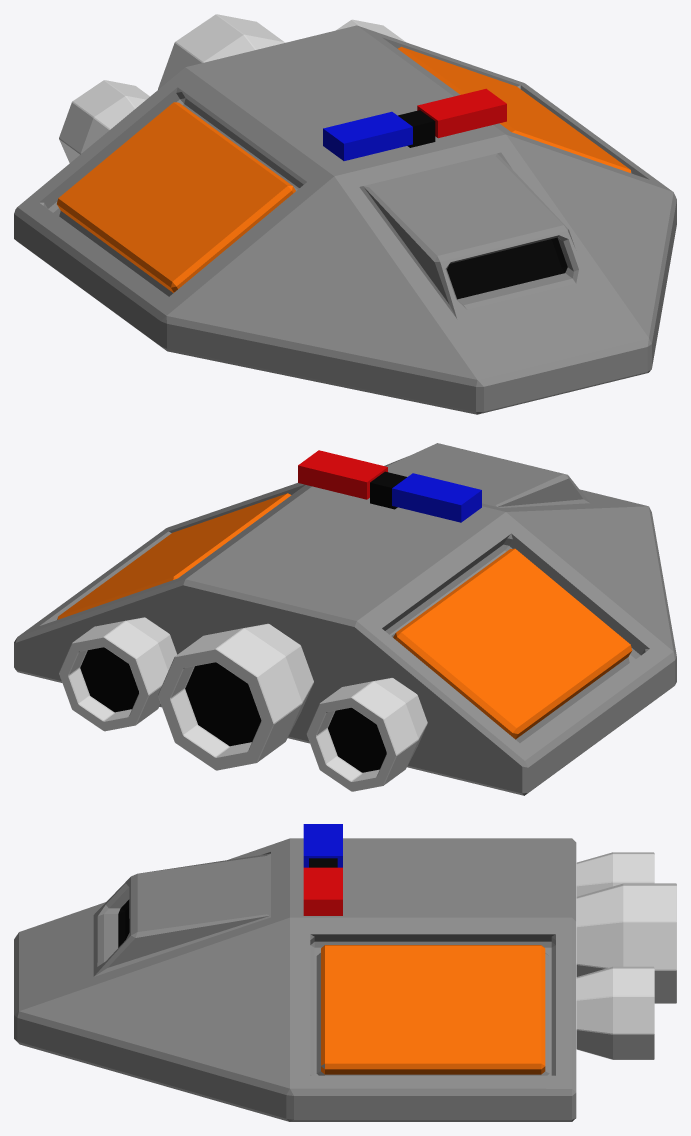
Rendered from police (2).fbx.
3 views of the same model, one above another, from view 1: azimuth 30°, elevation 25°; view 2: azimuth 150°, elevation 25°; view 3: azimuth 270°, elevation 25° (orthographic). The views are drawn at different scales.
Parts seen in each view (by area): view 1: Plane, Circle, Cube; view 2: Plane, Circle, Cube; view 3: Plane, Circle, Cube.
Boxes of the visible parts, box(x1,y1,x2,y2) form: Plane: box(14, 25, 676, 414); Circle: box(59, 14, 405, 162); Cube: box(323, 88, 506, 160); Plane: box(14, 443, 676, 795); Circle: box(59, 617, 427, 791); Cube: box(298, 450, 481, 522); Plane: box(14, 838, 576, 1121); Circle: box(576, 852, 676, 1059); Cube: box(303, 824, 342, 915).
Bounding box in the file's own units: 200 × 58.39 × 236.
